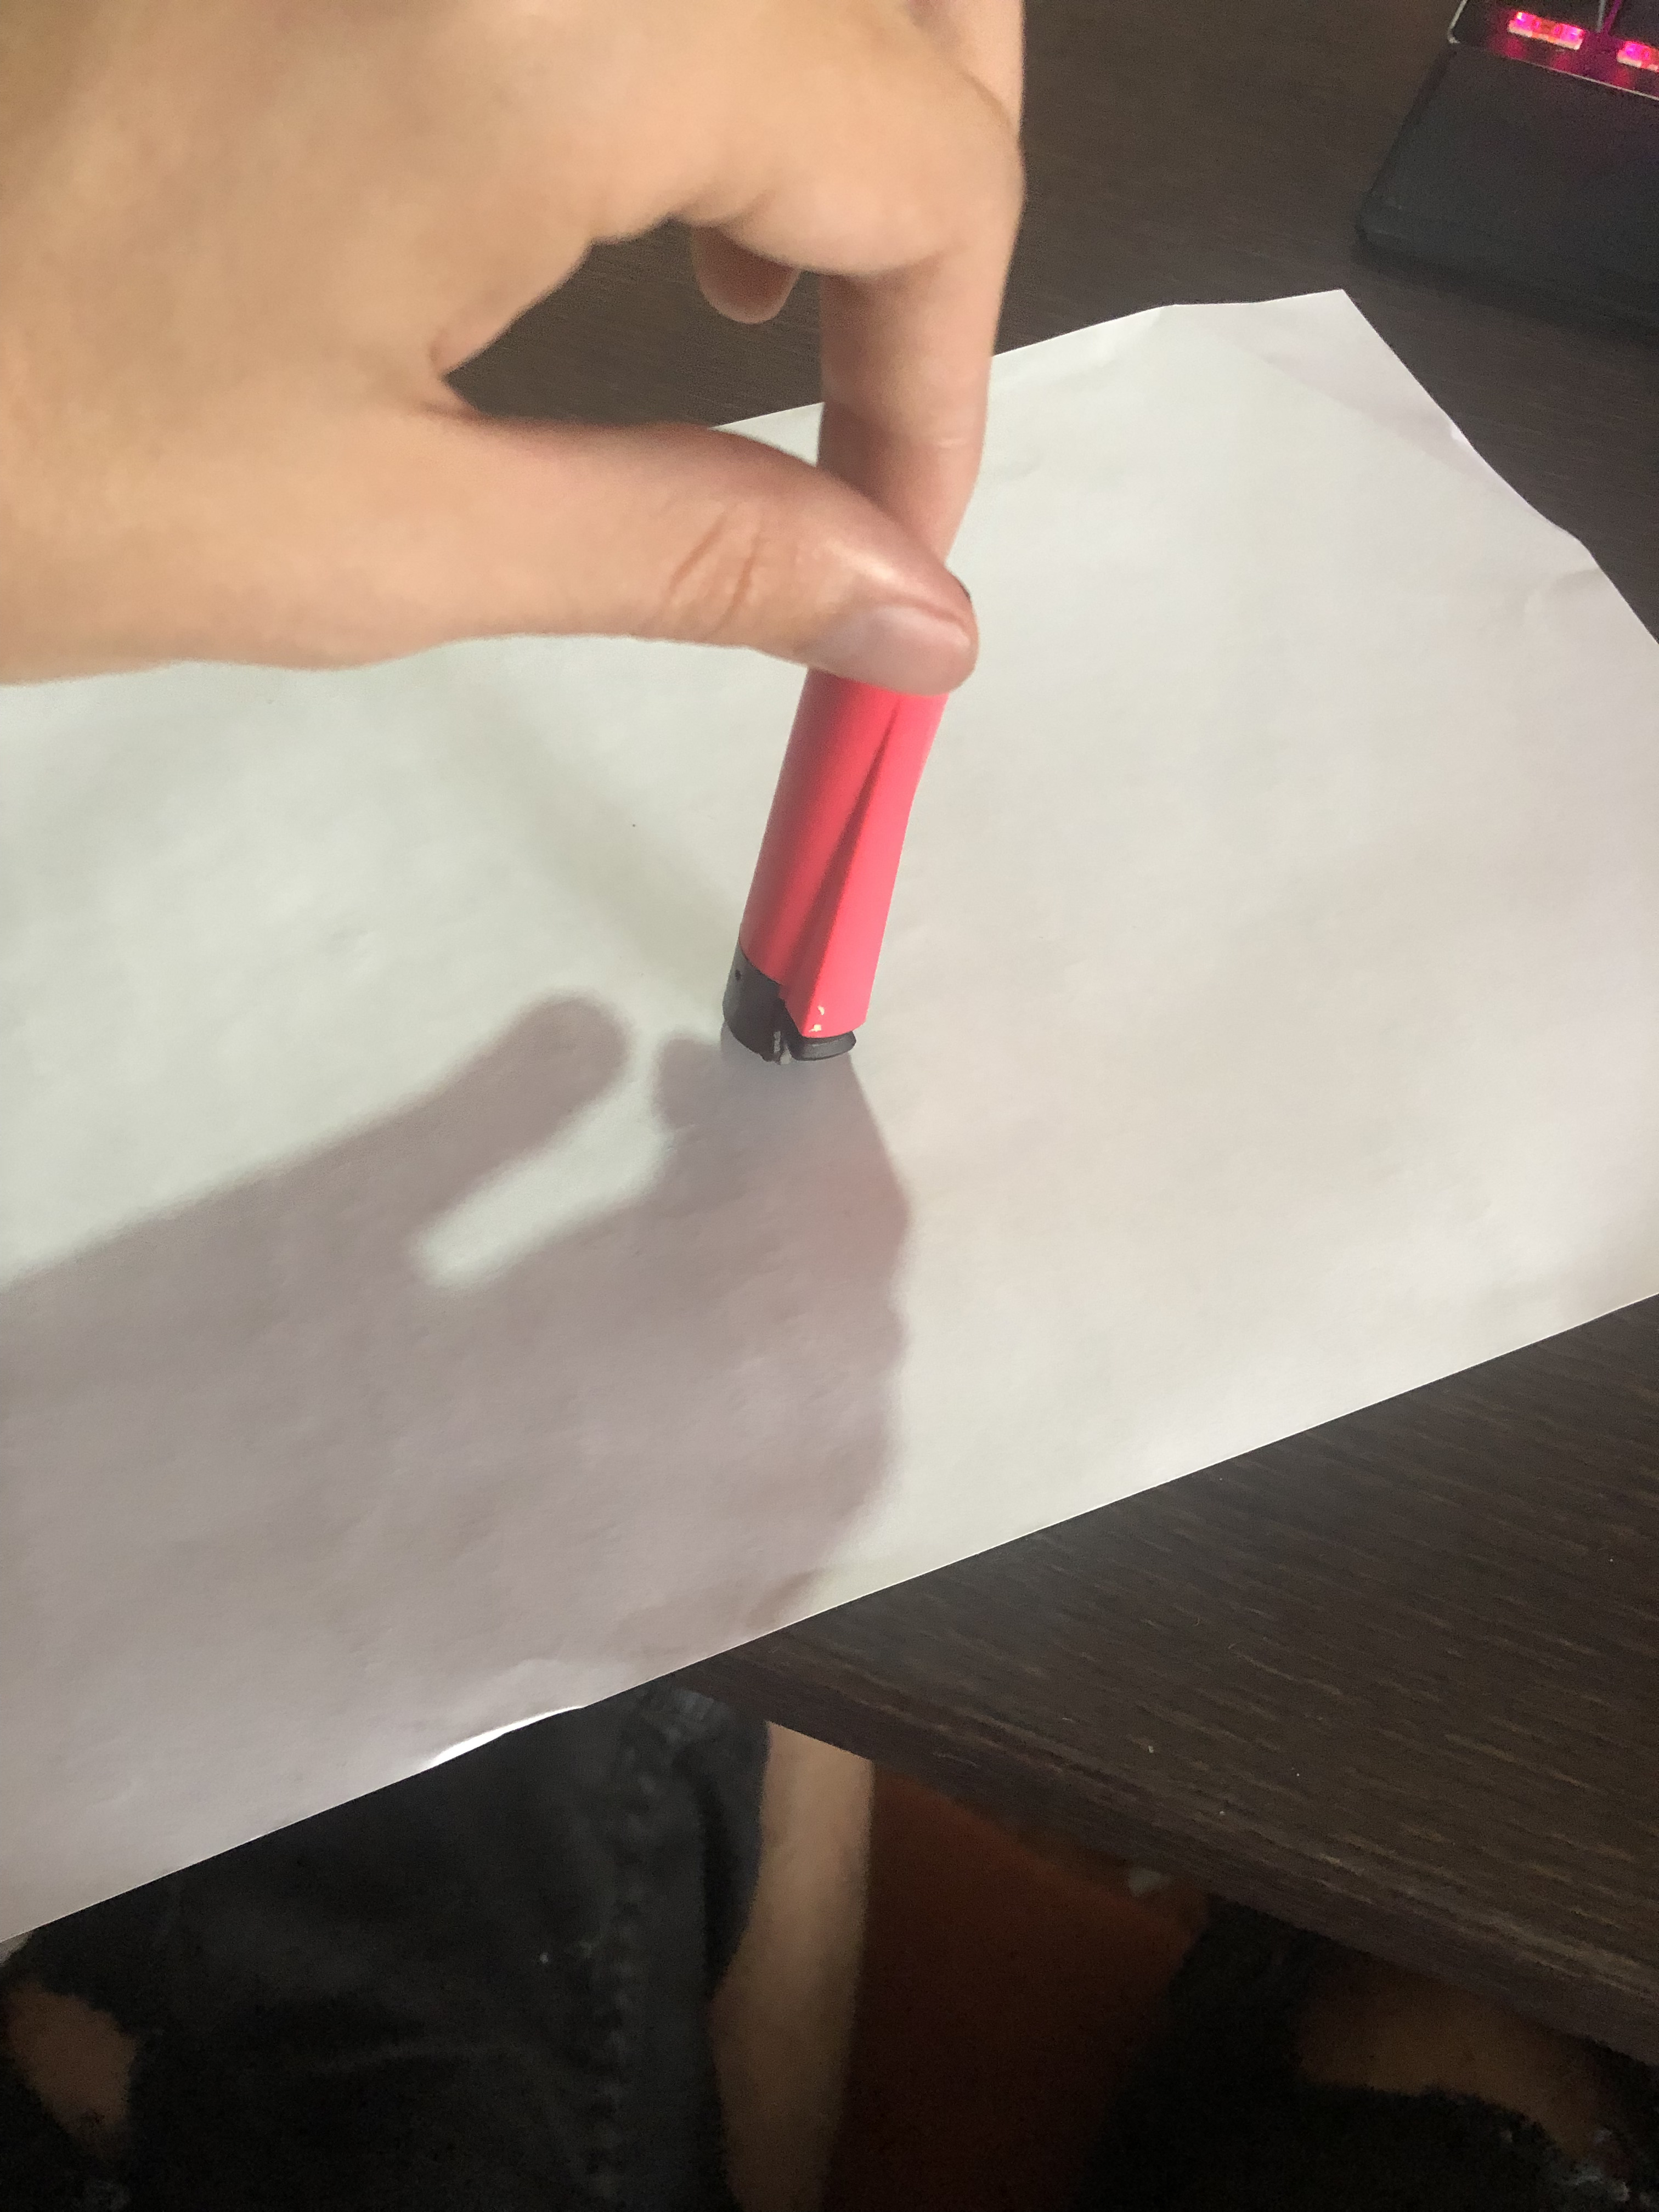Mechero: (697, 683, 983, 1083)
